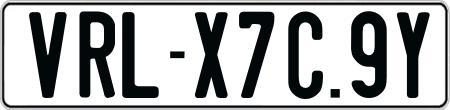7: (239, 9, 278, 100)
9: (348, 11, 387, 98)
C: (286, 10, 327, 103)
L: (120, 12, 163, 98)
R: (77, 11, 114, 98)
V: (26, 9, 70, 97)
X: (193, 12, 229, 99)
Y: (396, 12, 429, 102)
